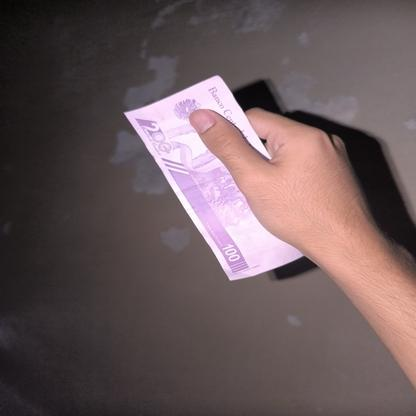one_hundred-back-vef: (122, 74, 304, 282)
